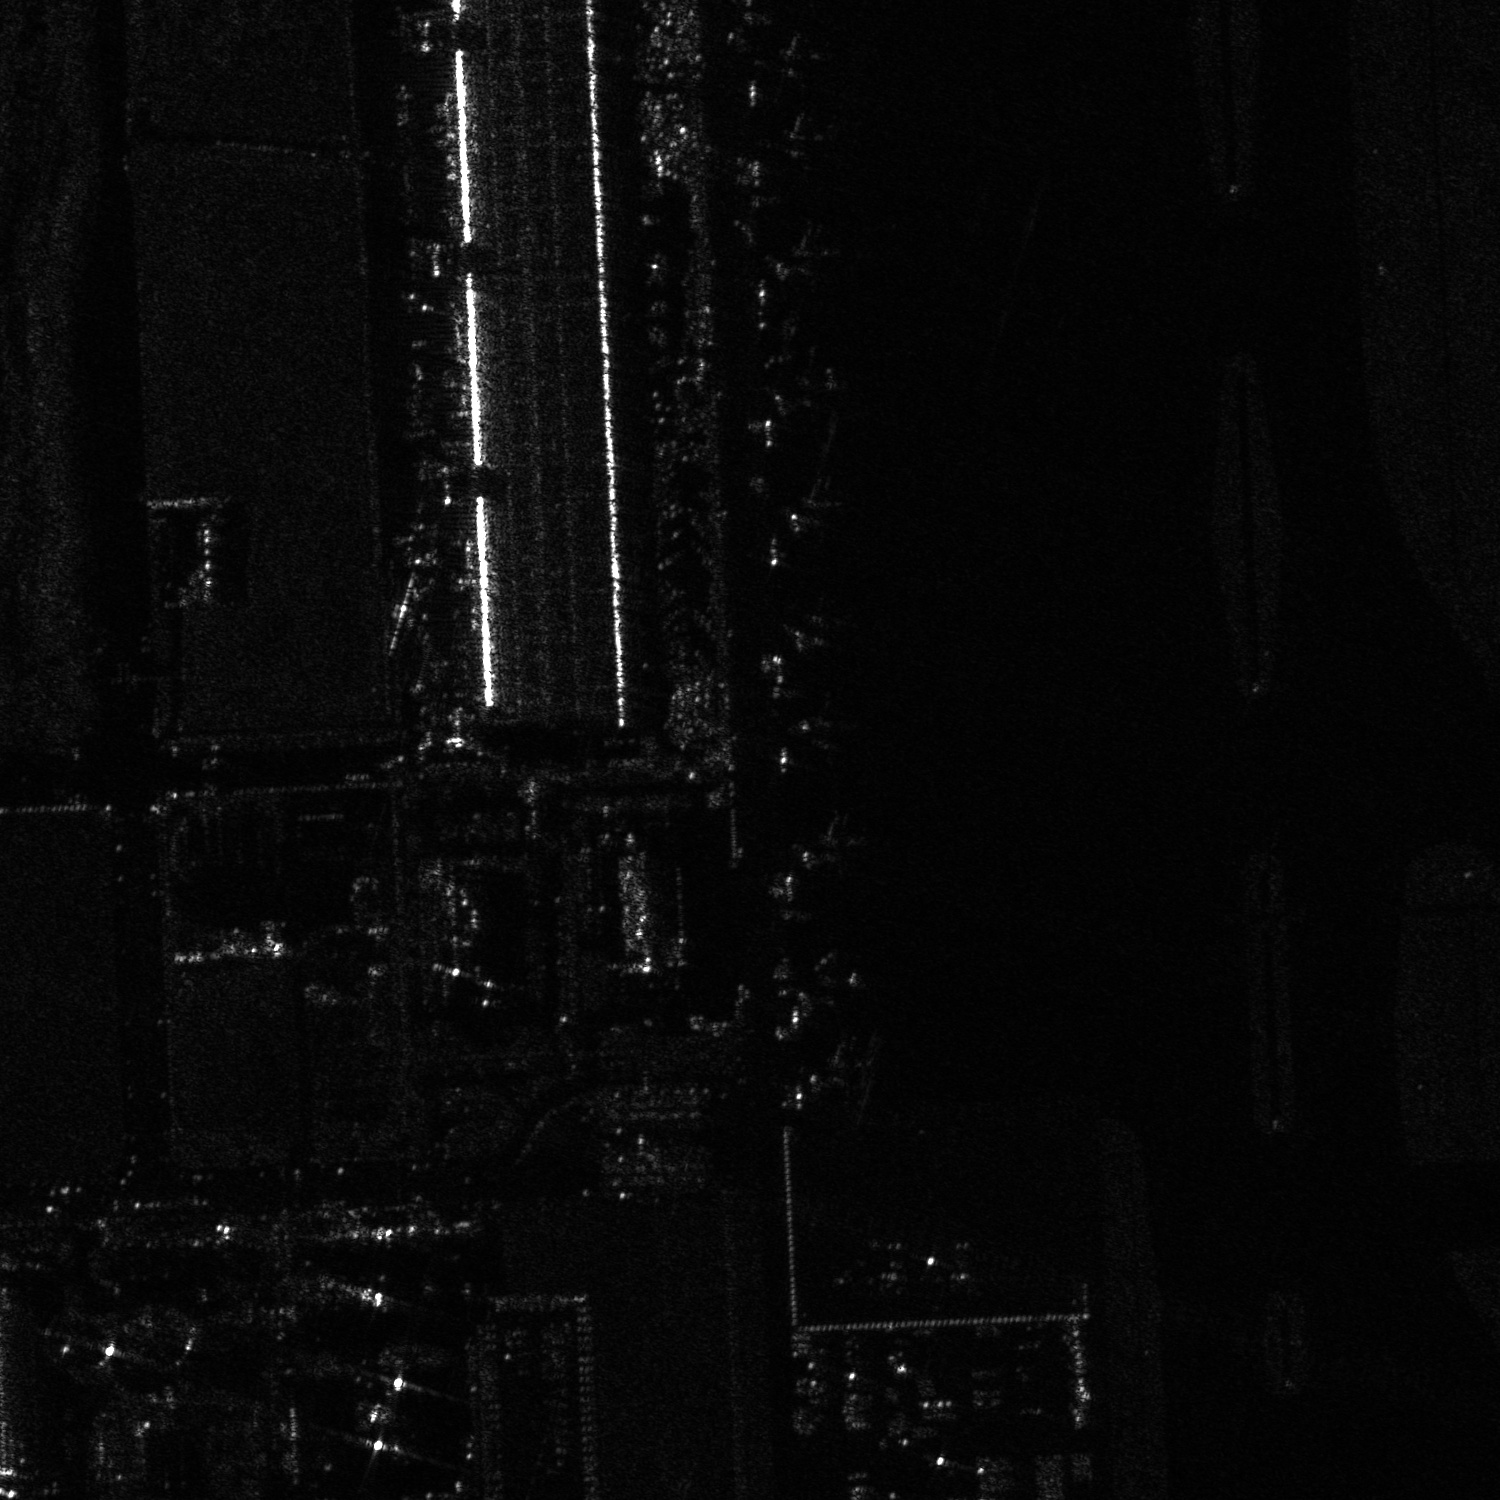A220: (779, 942, 878, 1018), (773, 346, 853, 418), (766, 220, 842, 288)
A320/321: (783, 810, 870, 874), (755, 104, 835, 168), (751, 26, 827, 85)
ARJ21: (868, 1232, 918, 1295)
other: (775, 471, 854, 544), (804, 1033, 885, 1100), (784, 698, 861, 758), (772, 603, 841, 661), (934, 1234, 995, 1295)
